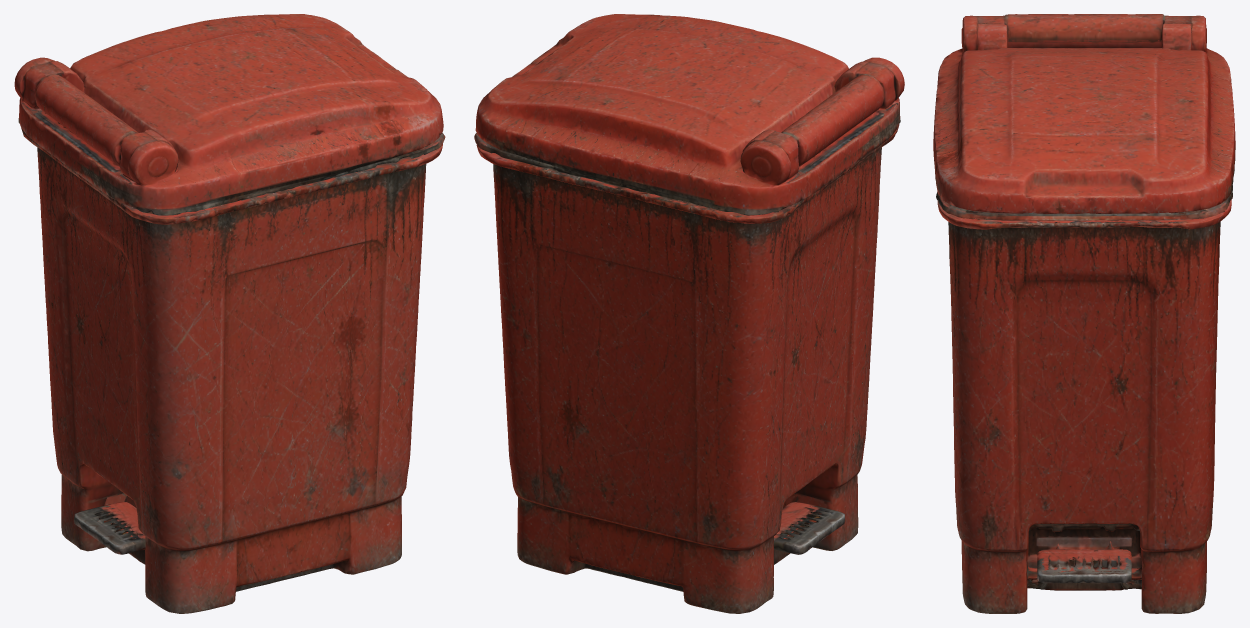
Rendered from MedicalWasteBin.fbx.
3 renders of one model, left to right at view 1: azimuth 30°, elevation 25°; view 2: azimuth 150°, elevation 25°; view 3: azimuth 270°, elevation 25°, orthographic.
Parts seen in each view (by area): view 1: texture_mapping; view 2: texture_mapping; view 3: texture_mapping.
Boxes of the visible parts, <box> form: texture_mapping: <box>14,14,445,613</box>; texture_mapping: <box>474,14,904,613</box>; texture_mapping: <box>933,14,1235,613</box>.
Size of the model in its own units: 0.713 by 0.5783 by 1.
1 material, 1 textured.
